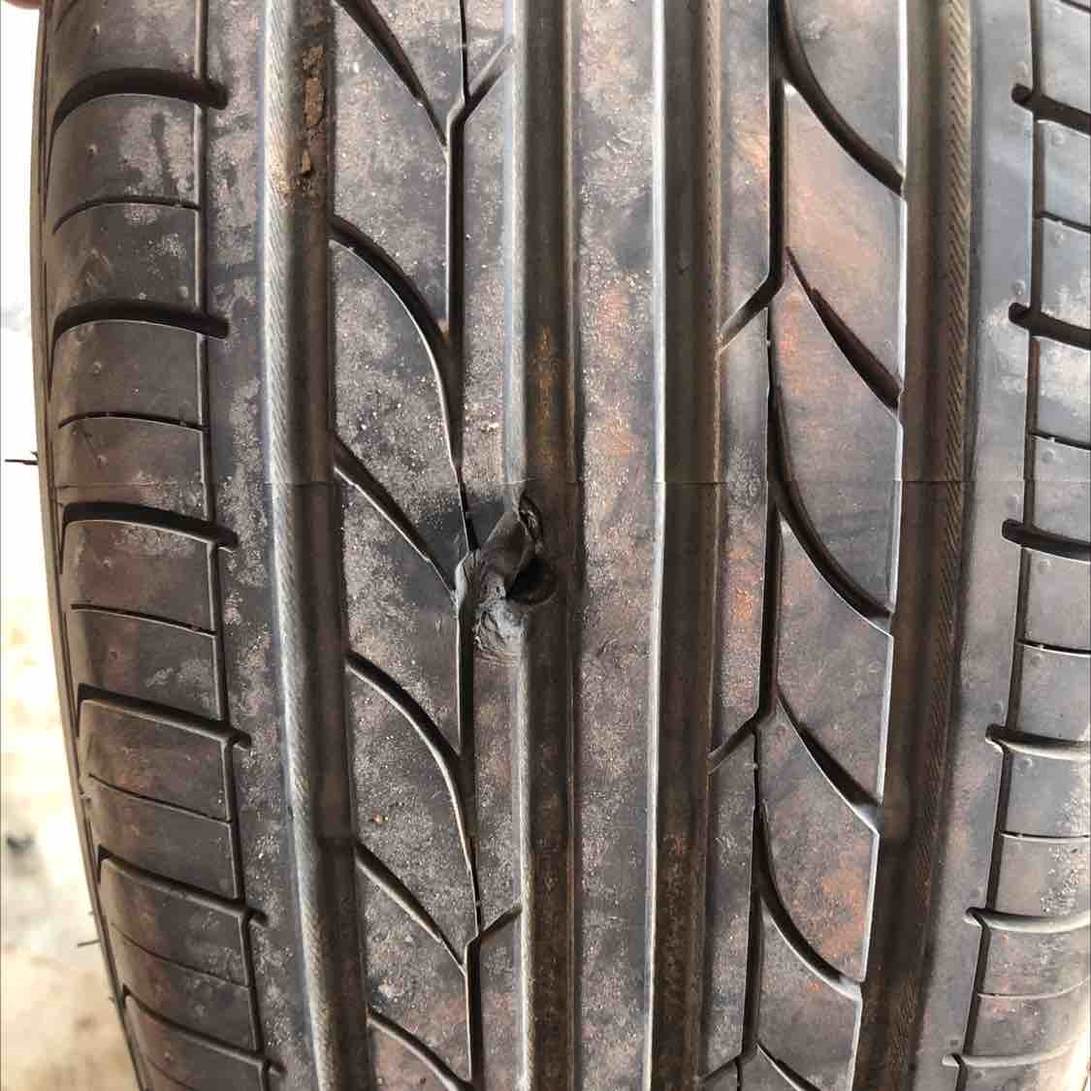tr: (447, 489, 564, 654)
